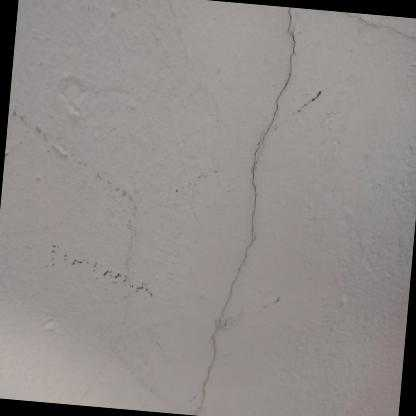crack: (191, 6, 296, 416)
